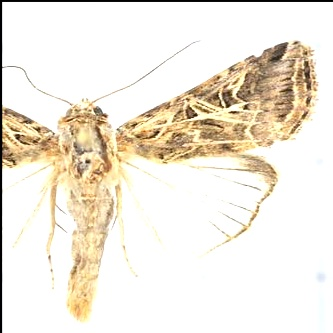Spodoptera litura: (2, 39, 319, 323)
